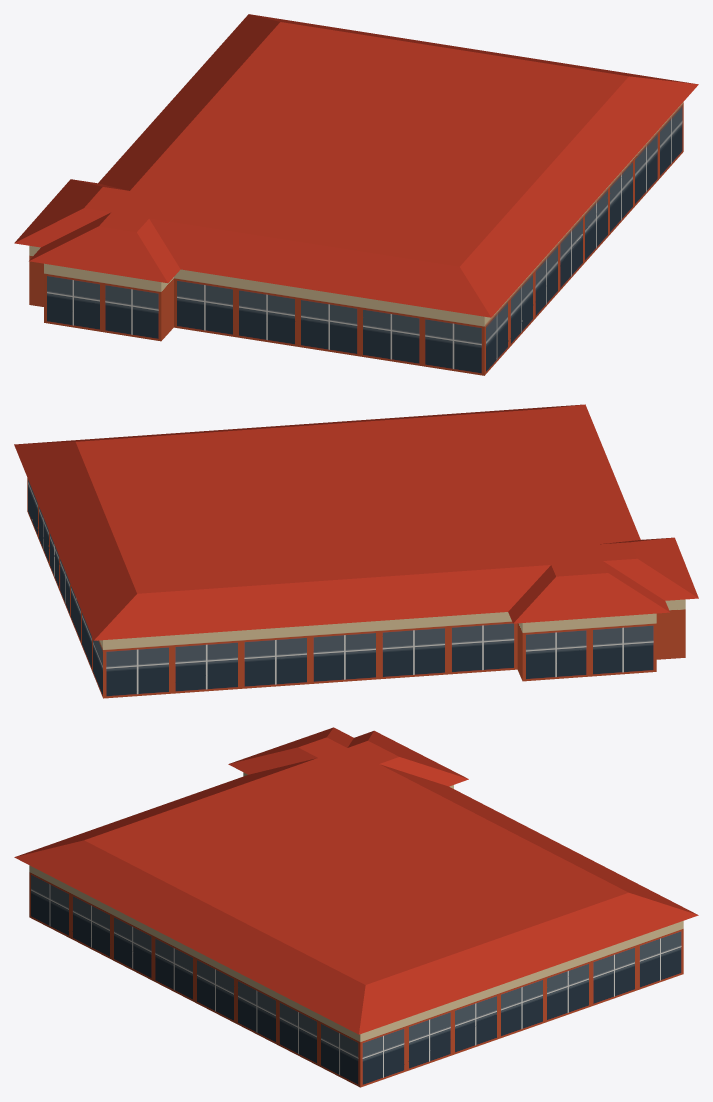
File: pb_unicasa.glb
3 renders of one model, top to bottom at view 1: azimuth 30°, elevation 25°; view 2: azimuth 150°, elevation 25°; view 3: azimuth 270°, elevation 25°, orthographic. The views are drawn at different scales.
Visible parts, largest first — view 1: pb_unicasa_lod0; view 2: pb_unicasa_lod0; view 3: pb_unicasa_lod0.
Part boxes in pixels (x1,y1,x2,y2): pb_unicasa_lod0: [14, 14, 698, 375]; pb_unicasa_lod0: [14, 404, 698, 698]; pb_unicasa_lod0: [14, 727, 698, 1087].
Size of what is drawn, in the model's own units: 46.58 by 5.6 by 43.86.
Materials: 3 (1 with a texture image).
